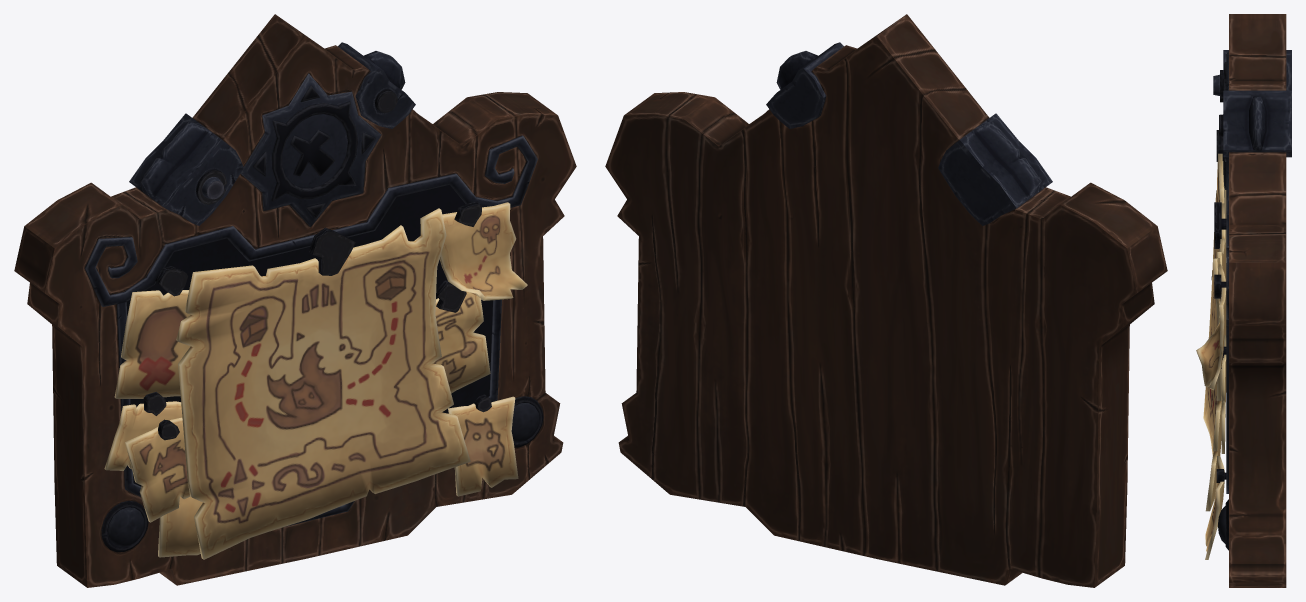
Rendered from treasuremap_pano.FBX.
3 renders of one model, left to right at view 1: azimuth 30°, elevation 25°; view 2: azimuth 150°, elevation 25°; view 3: azimuth 270°, elevation 25°, orthographic. The views are drawn at different scales.
Visible parts, largest first — view 1: treasuremap; view 2: treasuremap; view 3: treasuremap.
Part boxes in pixels (x1,y1,x2,y2): treasuremap: (14, 14, 576, 587); treasuremap: (605, 14, 1167, 587); treasuremap: (1196, 14, 1291, 587).
Bounding box in the file's own units: 161 × 152 × 26.74.
